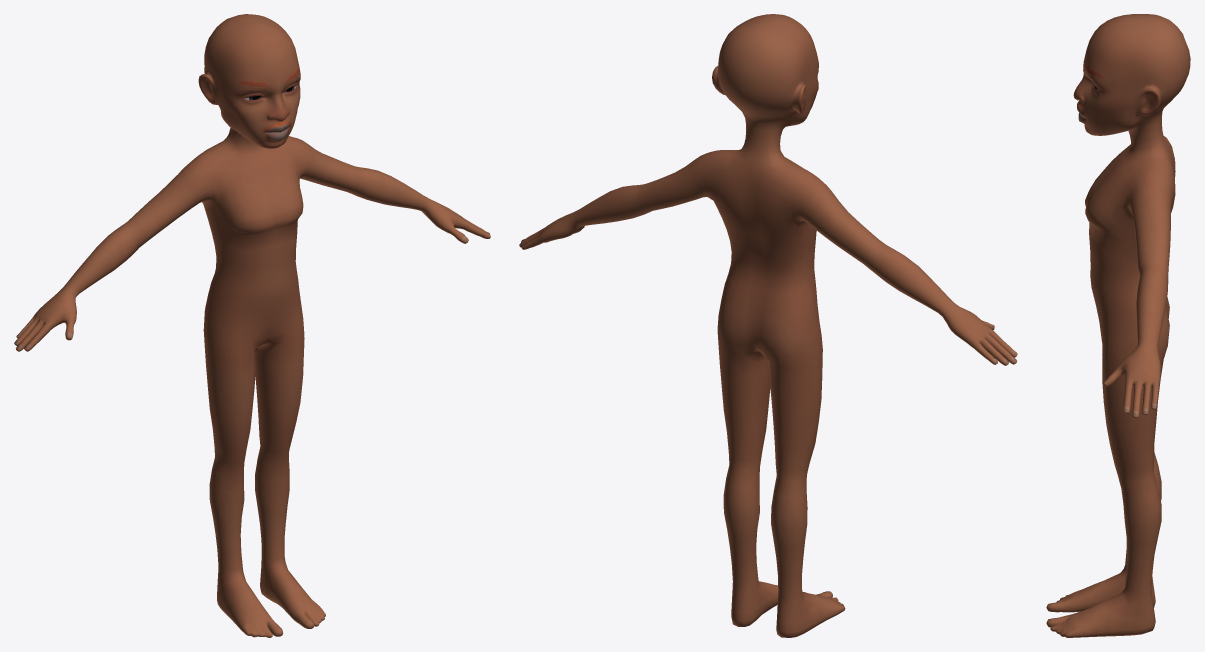
File: frame_0034.glb
The picture shows the model from 3 angles, left to right: view 1: azimuth 30°, elevation 25°; view 2: azimuth 150°, elevation 25°; view 3: azimuth 270°, elevation 25°; orthographic projection. The views are drawn at different scales.
Parts seen in each view (by area): view 1: frame_0034_head_geo; view 2: frame_0034_head_geo; view 3: frame_0034_head_geo.
Part boxes in pixels (x1=…): frame_0034_head_geo: x1=14, y1=14, x2=490, y2=637; frame_0034_head_geo: x1=519, y1=14, x2=1017, y2=637; frame_0034_head_geo: x1=1046, y1=14, x2=1190, y2=637.
Size of the model in its own units: 1.28 by 1.5 by 0.3253.
3 materials, 3 textured.
